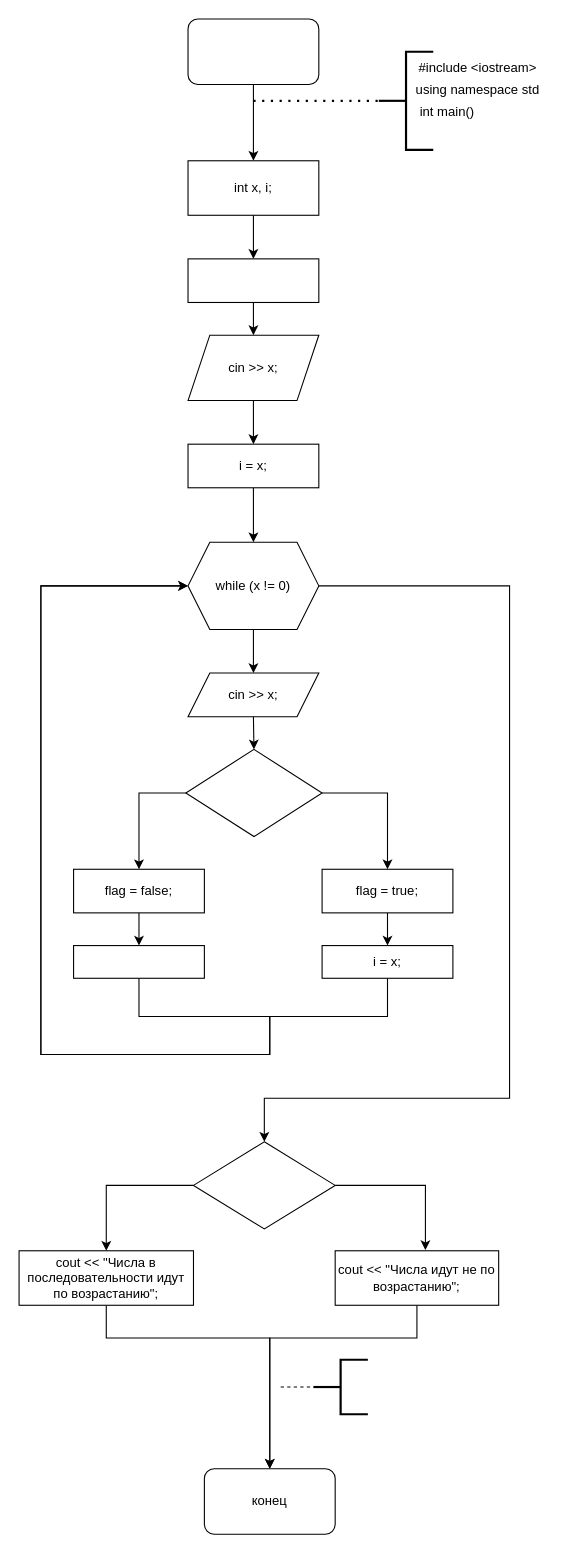
Some shapes in this 574 by 1553 pixel diagram are drawn without their labels. The box of each missing label's shape, as (x1, y1, x2, y2) in pixels:
bool flag;: (187, 258, 319, 302)
break;: (72, 944, 204, 978)
if (flag == true): (192, 1141, 335, 1229)
if (i > x && x != 0): (185, 748, 322, 837)
return 0: (312, 1358, 368, 1415)
начало: (187, 18, 319, 84)
